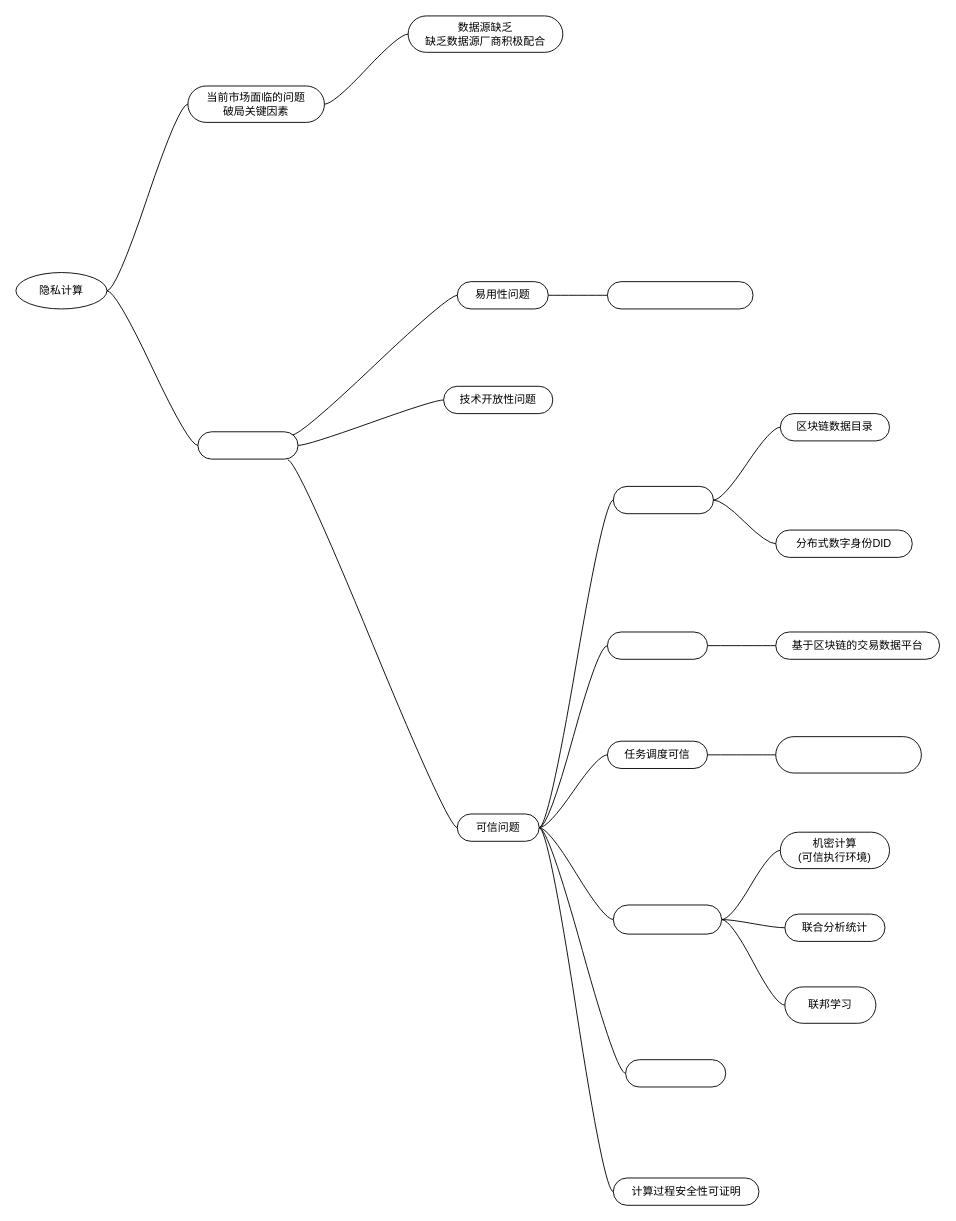
Some shapes in this 956 by 1221 pixel diagram are drawn without their labels. The shapes that lost their labels are listed below. From the top down, each one's box as (x1, y1, x2, y2) in pixels, then its label:
(607, 281, 753, 309): 隐私计算领域查询语言
(197, 431, 298, 459): 待解技术问题
(612, 485, 713, 514): 数据源头可信
(607, 631, 708, 659): 交易过程可信
(775, 736, 921, 773): 基于区块链智能合约的 去中心化调度引擎
(612, 904, 722, 934): 计算过程可信
(625, 1059, 726, 1087): 计算结果可信
